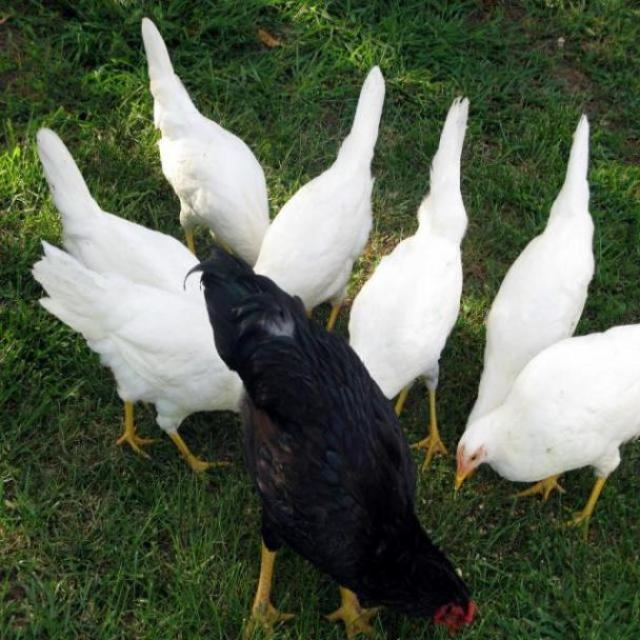Chicken: (174, 239, 491, 640), (43, 145, 269, 520), (451, 109, 603, 502), (340, 88, 475, 479), (453, 323, 640, 552), (245, 57, 387, 332), (143, 13, 274, 275)
